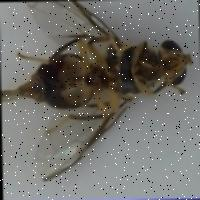Oriental-fruit-fly: (8, 0, 200, 183)
